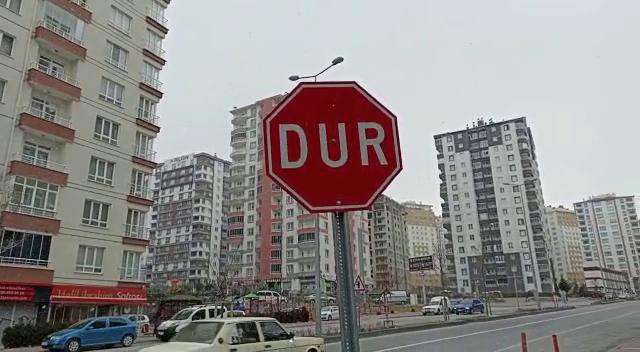stop: (259, 78, 407, 218)
